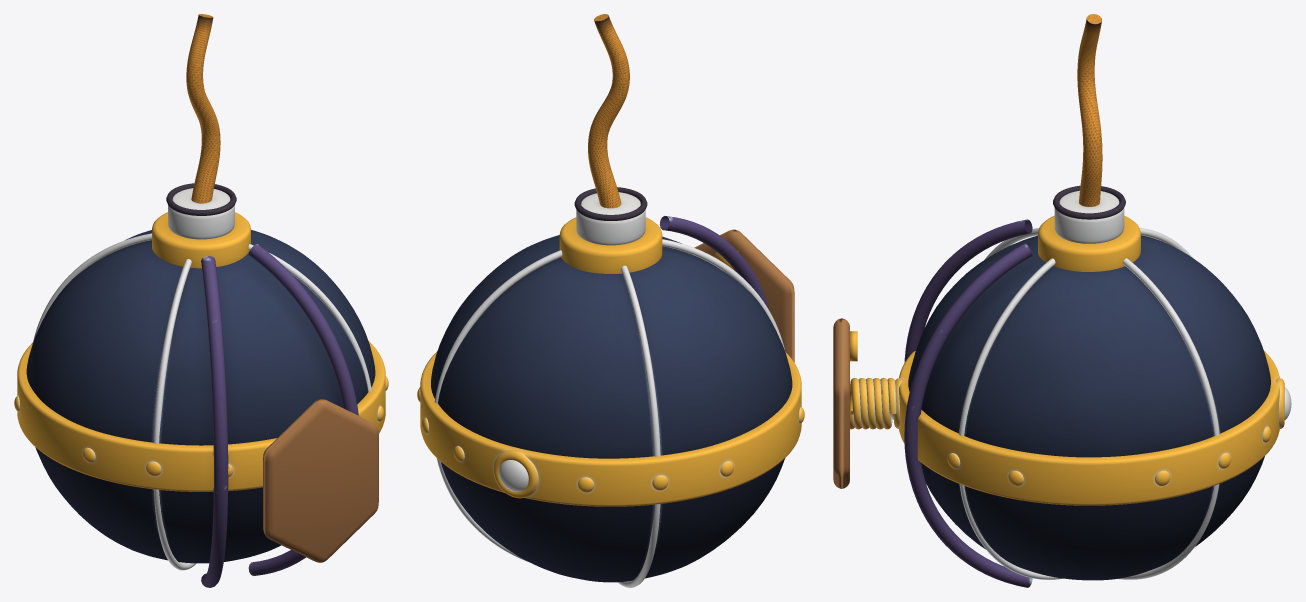
The model's file is Bomb.ClassicIron.glb.
3 renders of one model, left to right at view 1: azimuth 30°, elevation 25°; view 2: azimuth 150°, elevation 25°; view 3: azimuth 270°, elevation 25°, orthographic. The views are drawn at different scales.
Visible parts, largest first — view 1: Body, Clamp, Brass, Socket, SeamGlow1, SeamGlow2; view 2: Body, Brass, Clamp, Socket, SeamGlow1, SeamGlow2, LensB; view 3: Body, Brass, Clamp, Socket, SeamGlow1, SeamGlow2.
Part boxes in pixels (box(x1,y1,x2,y2)): Body: box(26, 229, 375, 563); Clamp: box(201, 244, 378, 587); Brass: box(14, 212, 388, 491); Socket: box(166, 183, 236, 239); SeamGlow1: box(153, 259, 196, 570); SeamGlow2: box(32, 233, 371, 391); Body: box(431, 235, 792, 582); Brass: box(417, 217, 804, 506); Clamp: box(659, 216, 794, 362); Socket: box(574, 187, 647, 245); SeamGlow1: box(434, 239, 785, 562); SeamGlow2: box(618, 265, 660, 587); LensB: box(499, 460, 528, 491); Body: box(908, 235, 1270, 580); Brass: box(850, 215, 1284, 505); Clamp: box(833, 219, 1032, 587); Socket: box(1053, 185, 1125, 243); SeamGlow1: box(984, 228, 1219, 579); SeamGlow2: box(959, 228, 1192, 579).
Bounding box in the file's own units: 2.3 × 3.73 × 2.76.
Materials: 5 (5 with a texture image).
